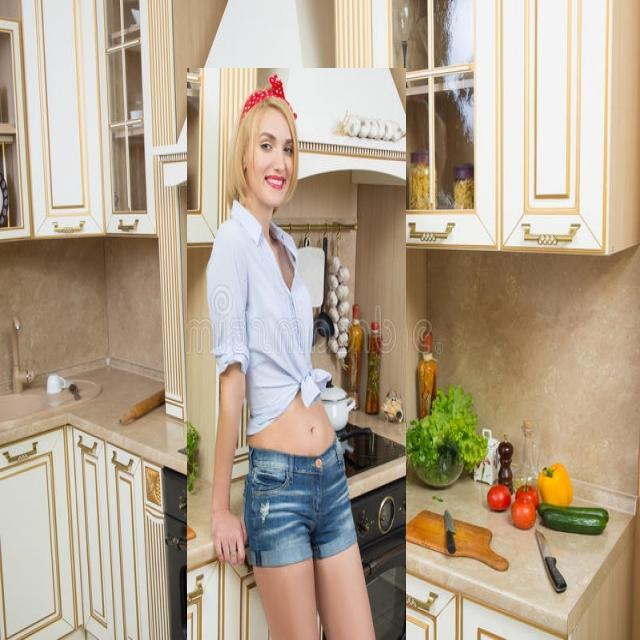NotFall: (165, 57, 409, 640)
